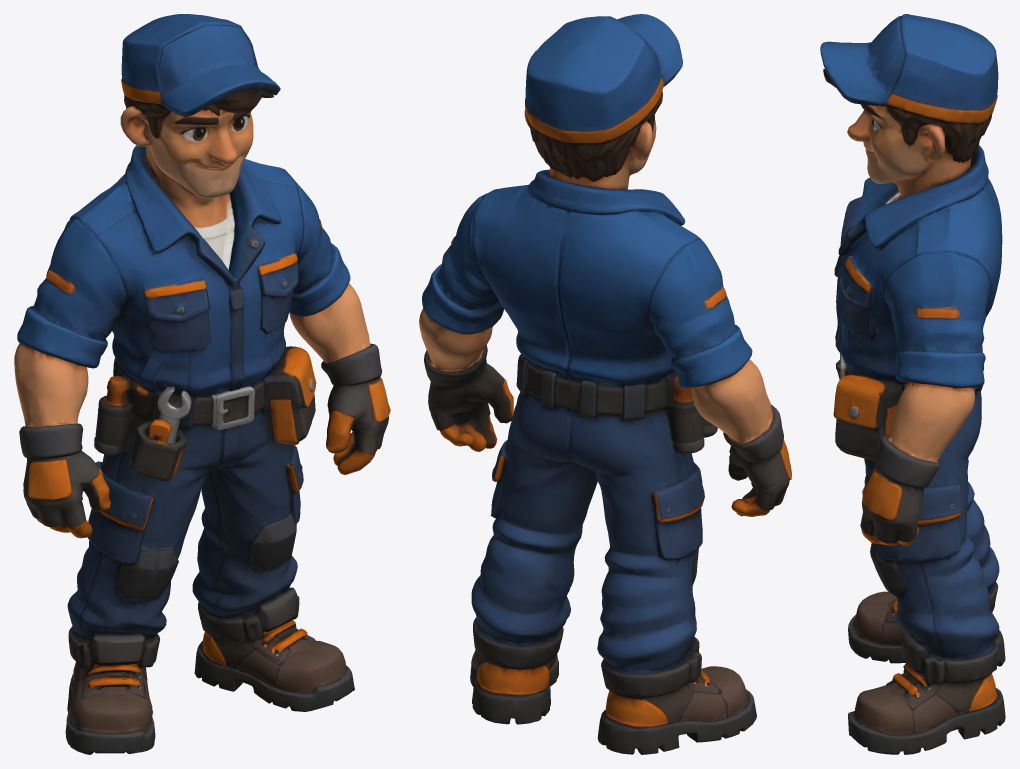
The model's file is main_player_male_1k_real.glb.
3 views of the same model, side by side, from view 1: azimuth 30°, elevation 25°; view 2: azimuth 150°, elevation 25°; view 3: azimuth 270°, elevation 25° (orthographic). The views are drawn at different scales.
Parts seen in each view (by area): view 1: tripo_node_c05b7382-bff9-4af6-8f52-a13cc652ce44; view 2: tripo_node_c05b7382-bff9-4af6-8f52-a13cc652ce44; view 3: tripo_node_c05b7382-bff9-4af6-8f52-a13cc652ce44.
Boxes of the visible parts, bbox=[...] form: tripo_node_c05b7382-bff9-4af6-8f52-a13cc652ce44: bbox=[14, 14, 390, 754]; tripo_node_c05b7382-bff9-4af6-8f52-a13cc652ce44: bbox=[419, 14, 791, 754]; tripo_node_c05b7382-bff9-4af6-8f52-a13cc652ce44: bbox=[820, 14, 1005, 754].
Bounding box in the file's own units: 0.5453 × 1 × 0.2494.
Materials: 1 (1 with a texture image).
